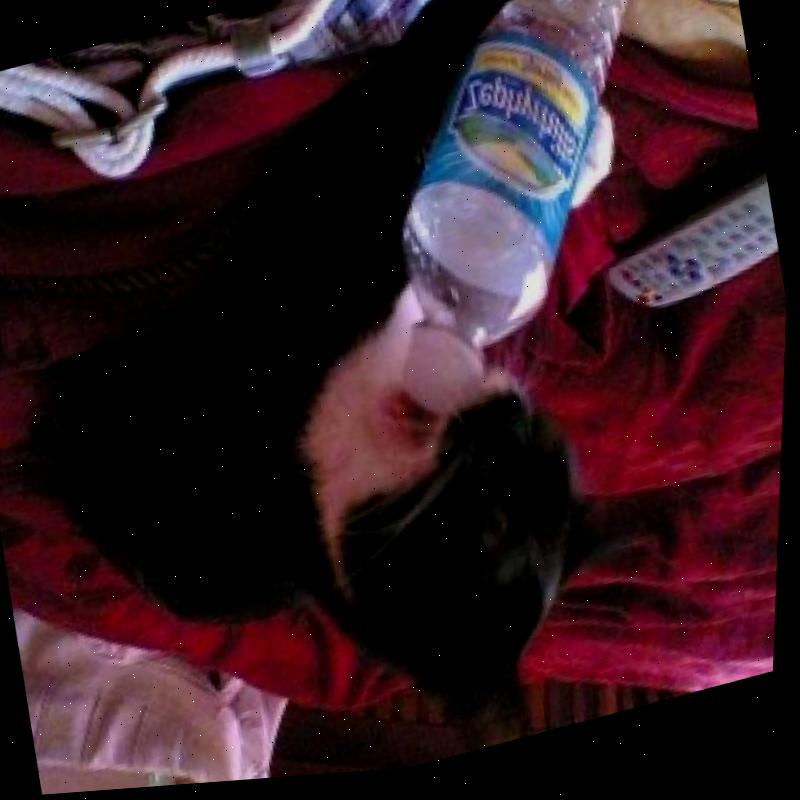botella: (323, 0, 716, 429)
